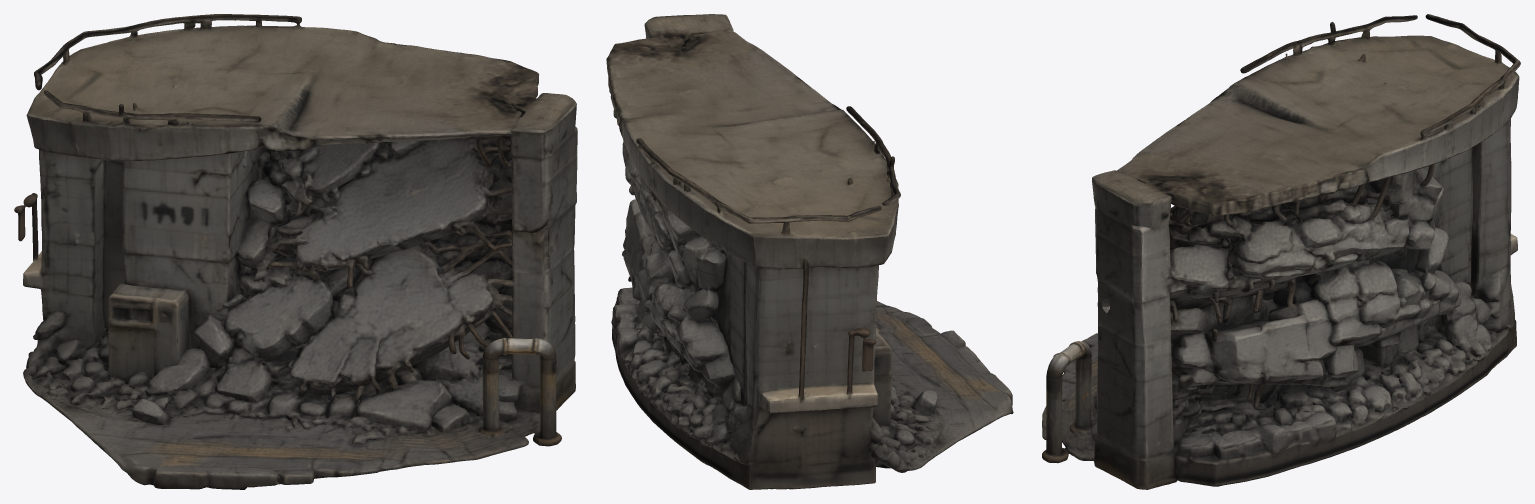
Rendered from ruin_small.glb.
The picture shows the model from 3 angles, left to right: view 1: azimuth 30°, elevation 25°; view 2: azimuth 150°, elevation 25°; view 3: azimuth 270°, elevation 25°; orthographic projection. The views are drawn at different scales.
Parts seen in each view (by area): view 1: world; view 2: world; view 3: world.
Boxes of the visible parts, left/top/right/bottom form: world: left=14, top=14, right=577, bottom=489; world: left=606, top=14, right=1013, bottom=489; world: left=1042, top=14, right=1520, bottom=489.
Bounding box in the file's own units: 4.5 × 3.22 × 4.52.
1 material, 1 textured.
